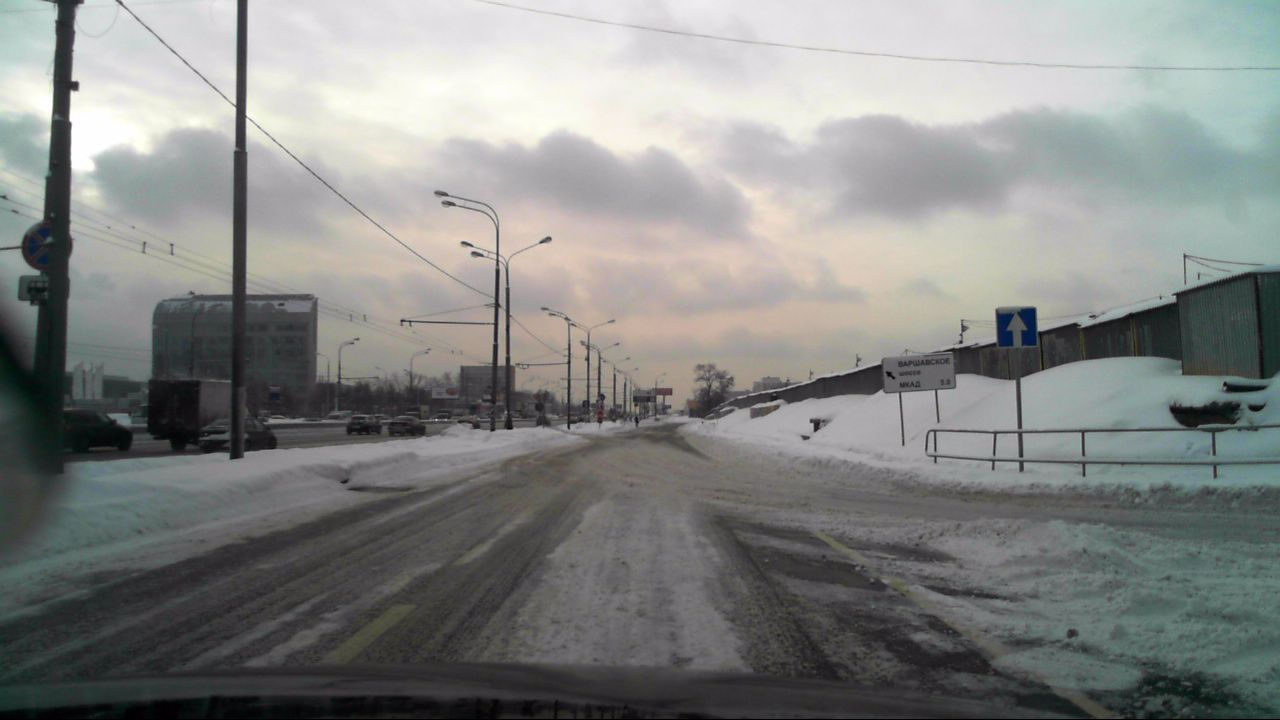No Parking: (19, 219, 71, 270)
